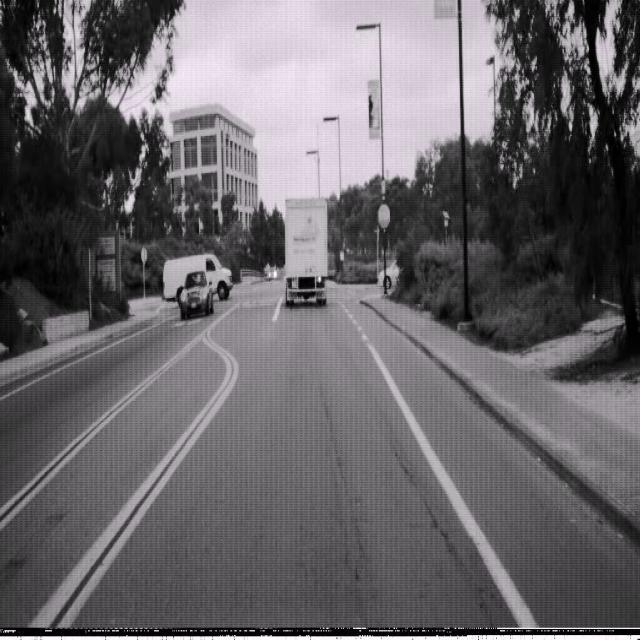stop: (378, 202, 390, 230)
